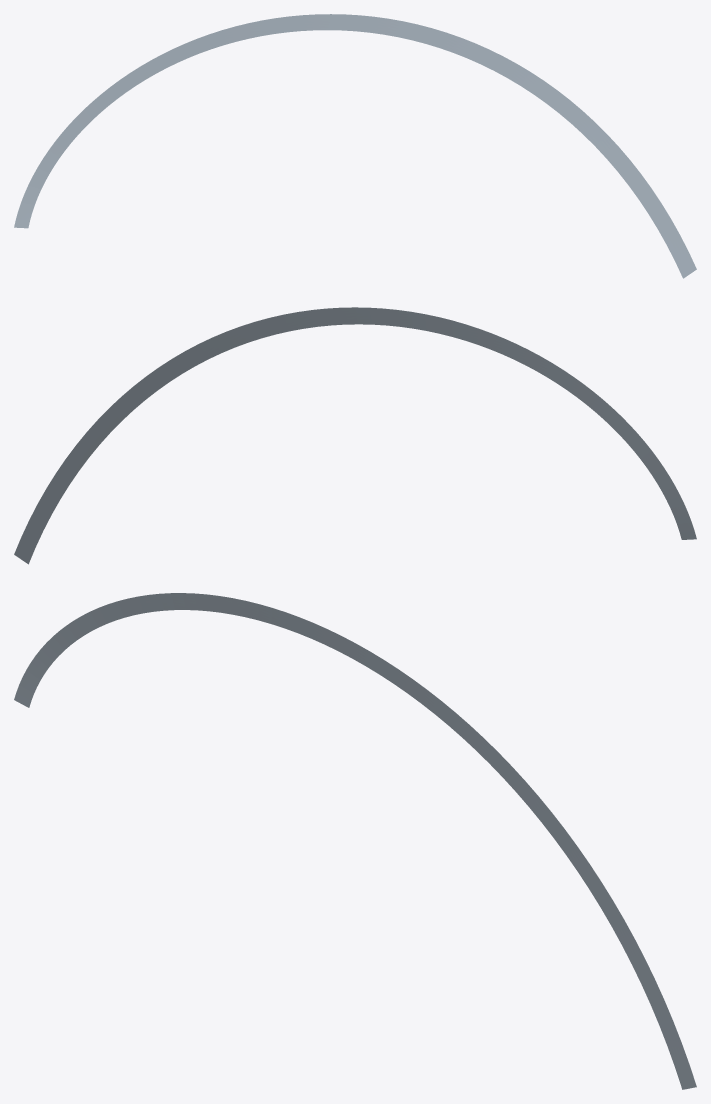
File: Sucrose_AstableAnemohypostasisCreation_ThreeTargets_GatheringWind_35_0.fbx
3 renders of one model, top to bottom at view 1: azimuth 30°, elevation 25°; view 2: azimuth 150°, elevation 25°; view 3: azimuth 330°, elevation 25°, orthographic. The views are drawn at different scales.
Parts seen in each view (by area): view 1: PART_GatheringWind_35_0; view 2: PART_GatheringWind_35_0; view 3: PART_GatheringWind_35_0.
Part boxes in pixels (x1,y1,x2,y2): PART_GatheringWind_35_0: (14,14,696,278); PART_GatheringWind_35_0: (14,307,696,564); PART_GatheringWind_35_0: (14,593,696,1089).
Size of the model in its own units: 311 by 154 by 16.
